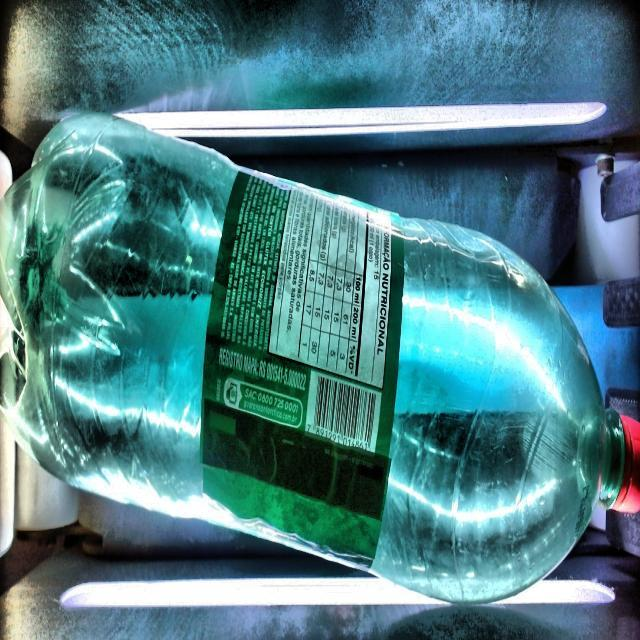bottle: (0, 115, 640, 603)
